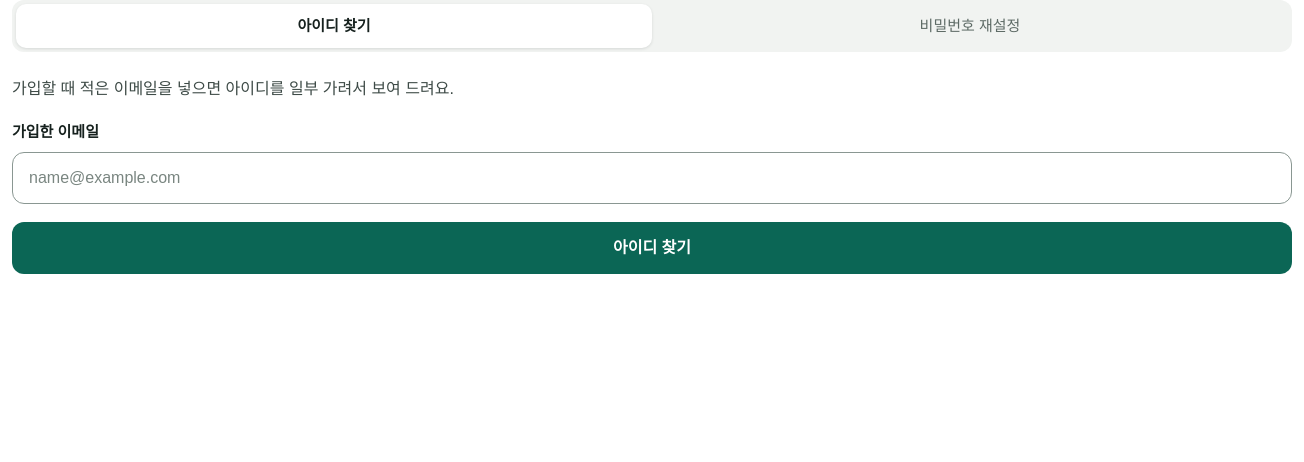
Scenario: AccountRecoveryForm — 비밀번호 재설정 (이름 + 휴대폰 인증) › TEST-PWRESET-UI-004: 인증 실패 {"error":"attempts_exceeded"}
This screenshot has width=1304, height=462.
Click the tab "비밀번호 재설정" at {"x": 970, "y": 26}, box [652,4,1288,48]
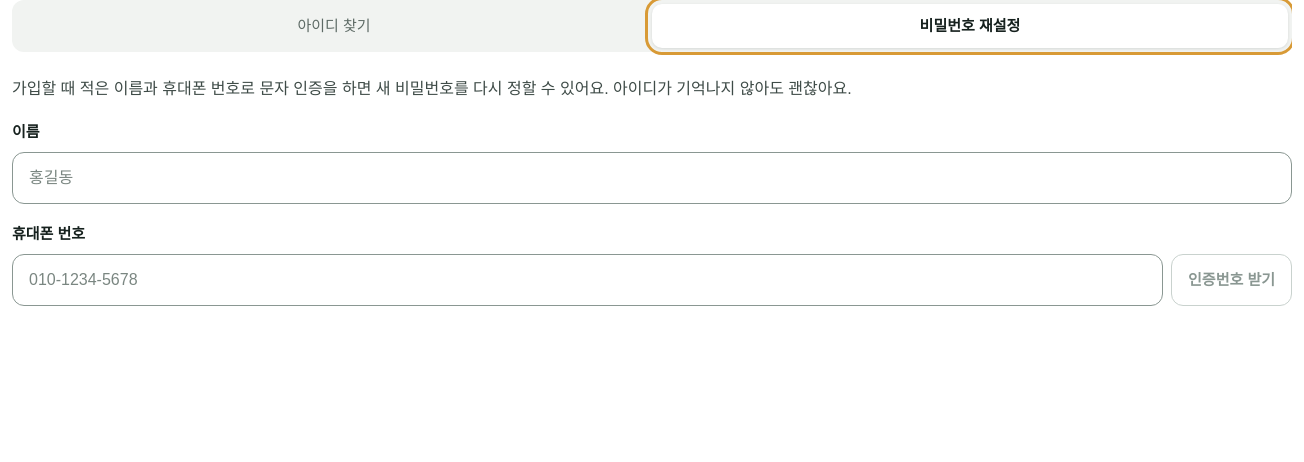
Type "정민선" into the field labelled "이름" at {"x": 652, "y": 178}, box [29,166,1275,190]
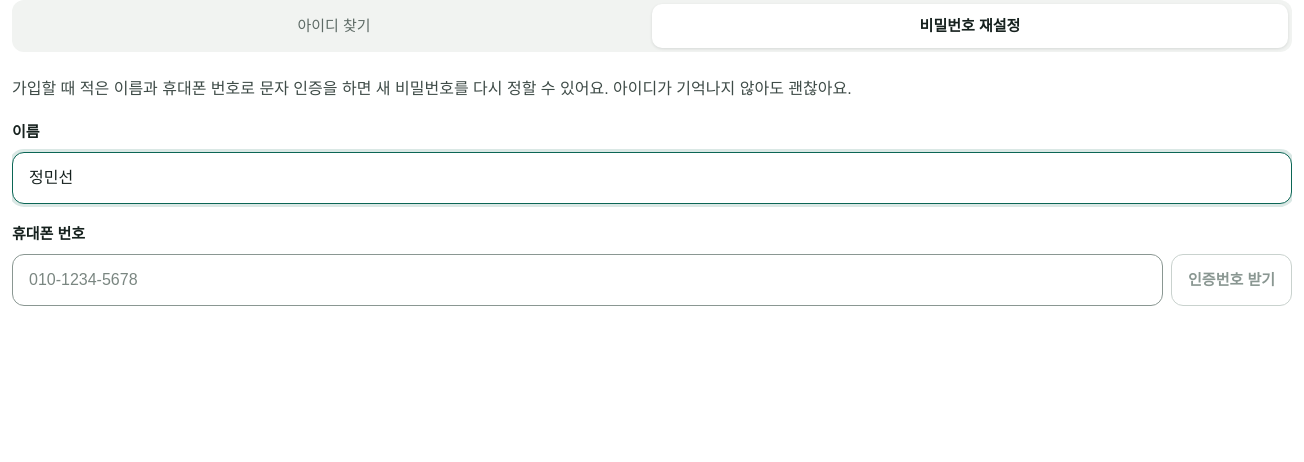
Type "01012345678" into the field labelled "휴대폰 번호" at {"x": 588, "y": 280}, box [29,268,1146,292]
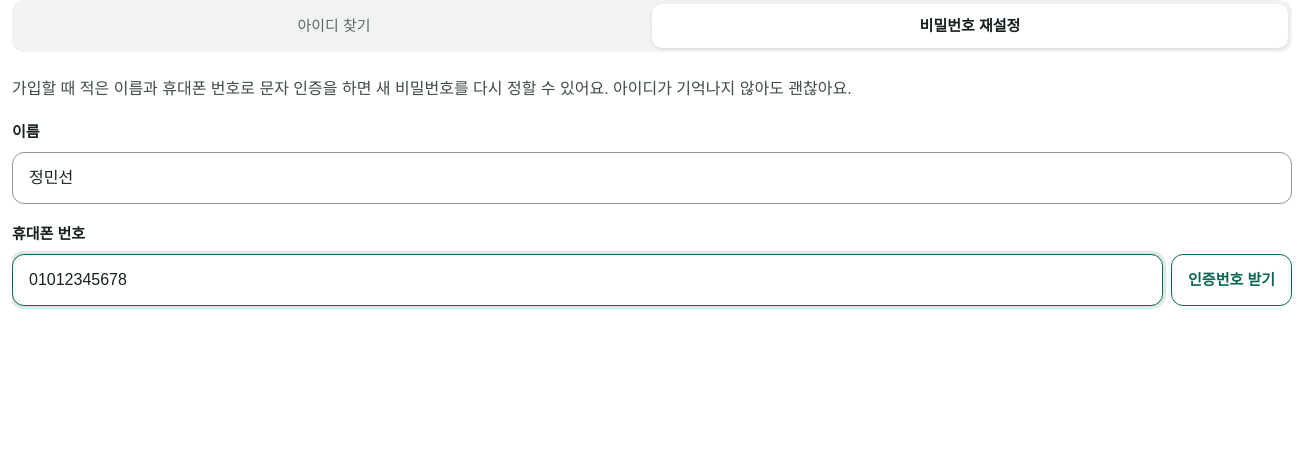
Click the button "인증번호 받기" at {"x": 1232, "y": 280}, box [1171,254,1292,306]
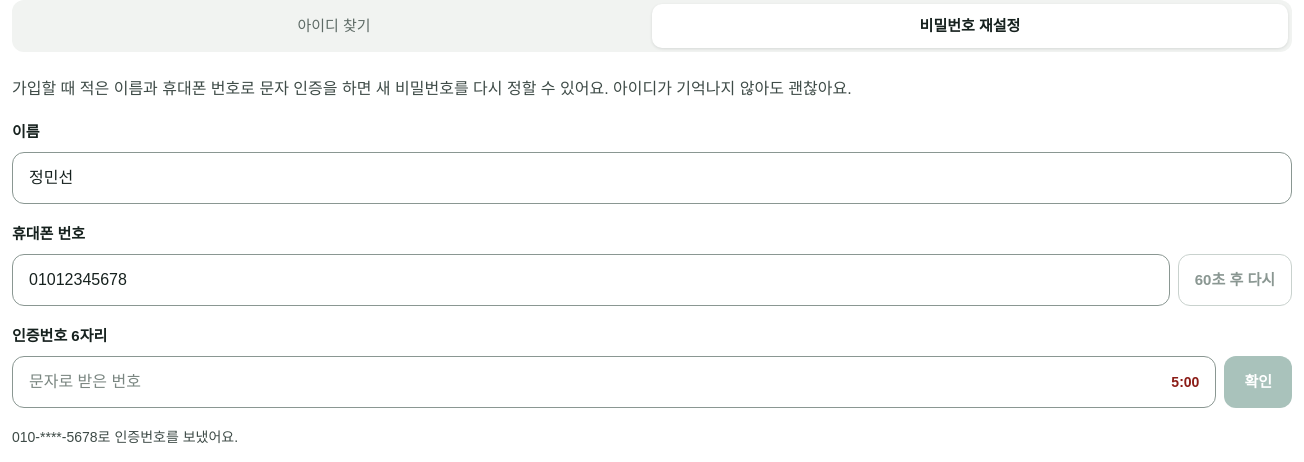
Type "000000" into the field labelled "인증번호 6자리" at {"x": 600, "y": 382}, box [29,370,1171,394]
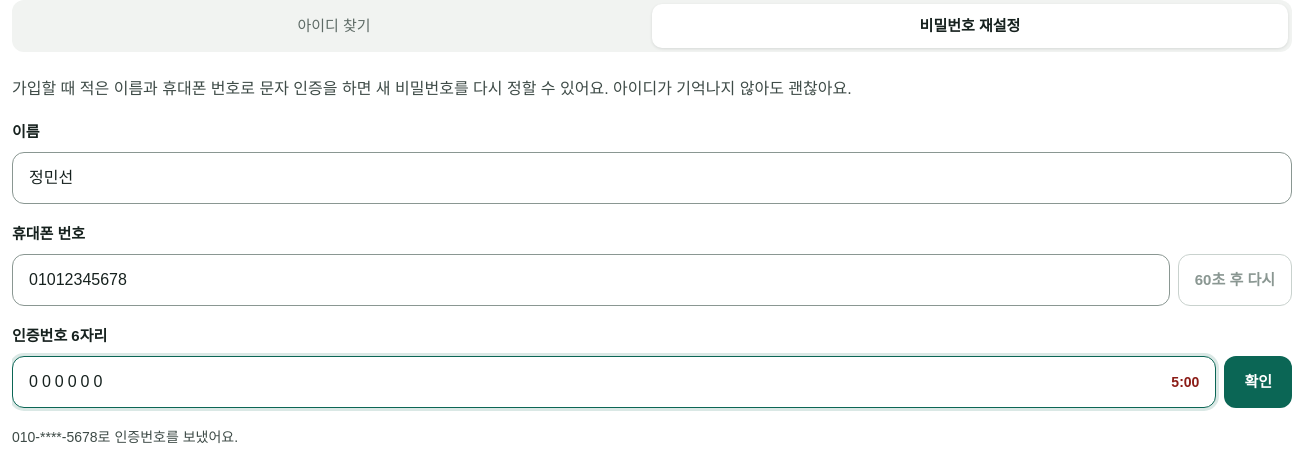
Click the button with aria-label "인증번호 확인" at {"x": 1258, "y": 382}, box [1224,356,1292,408]
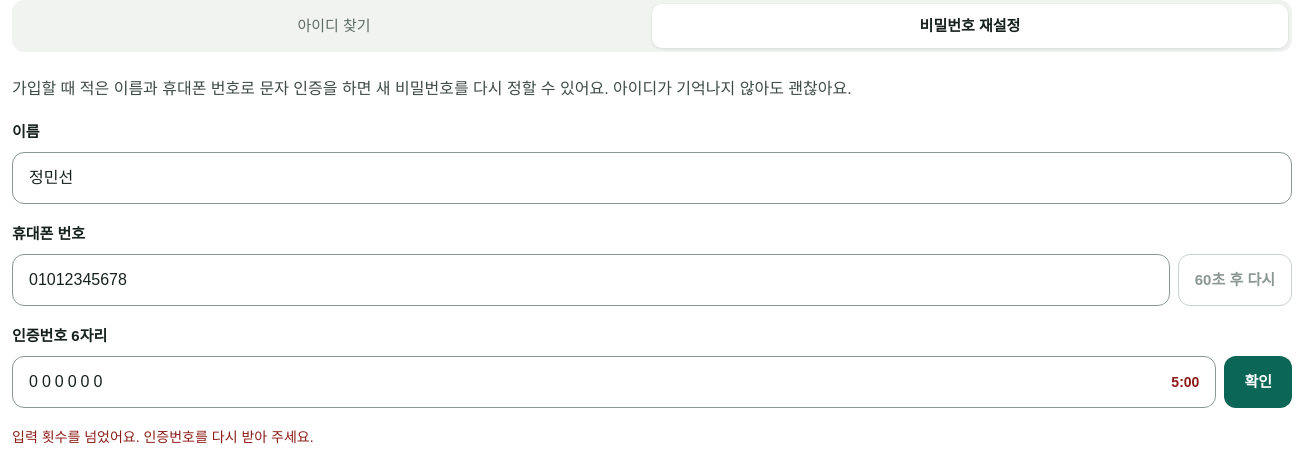
Expected: the message shows "입력 횟수를 넘었어요.", [12,429,314,445]
